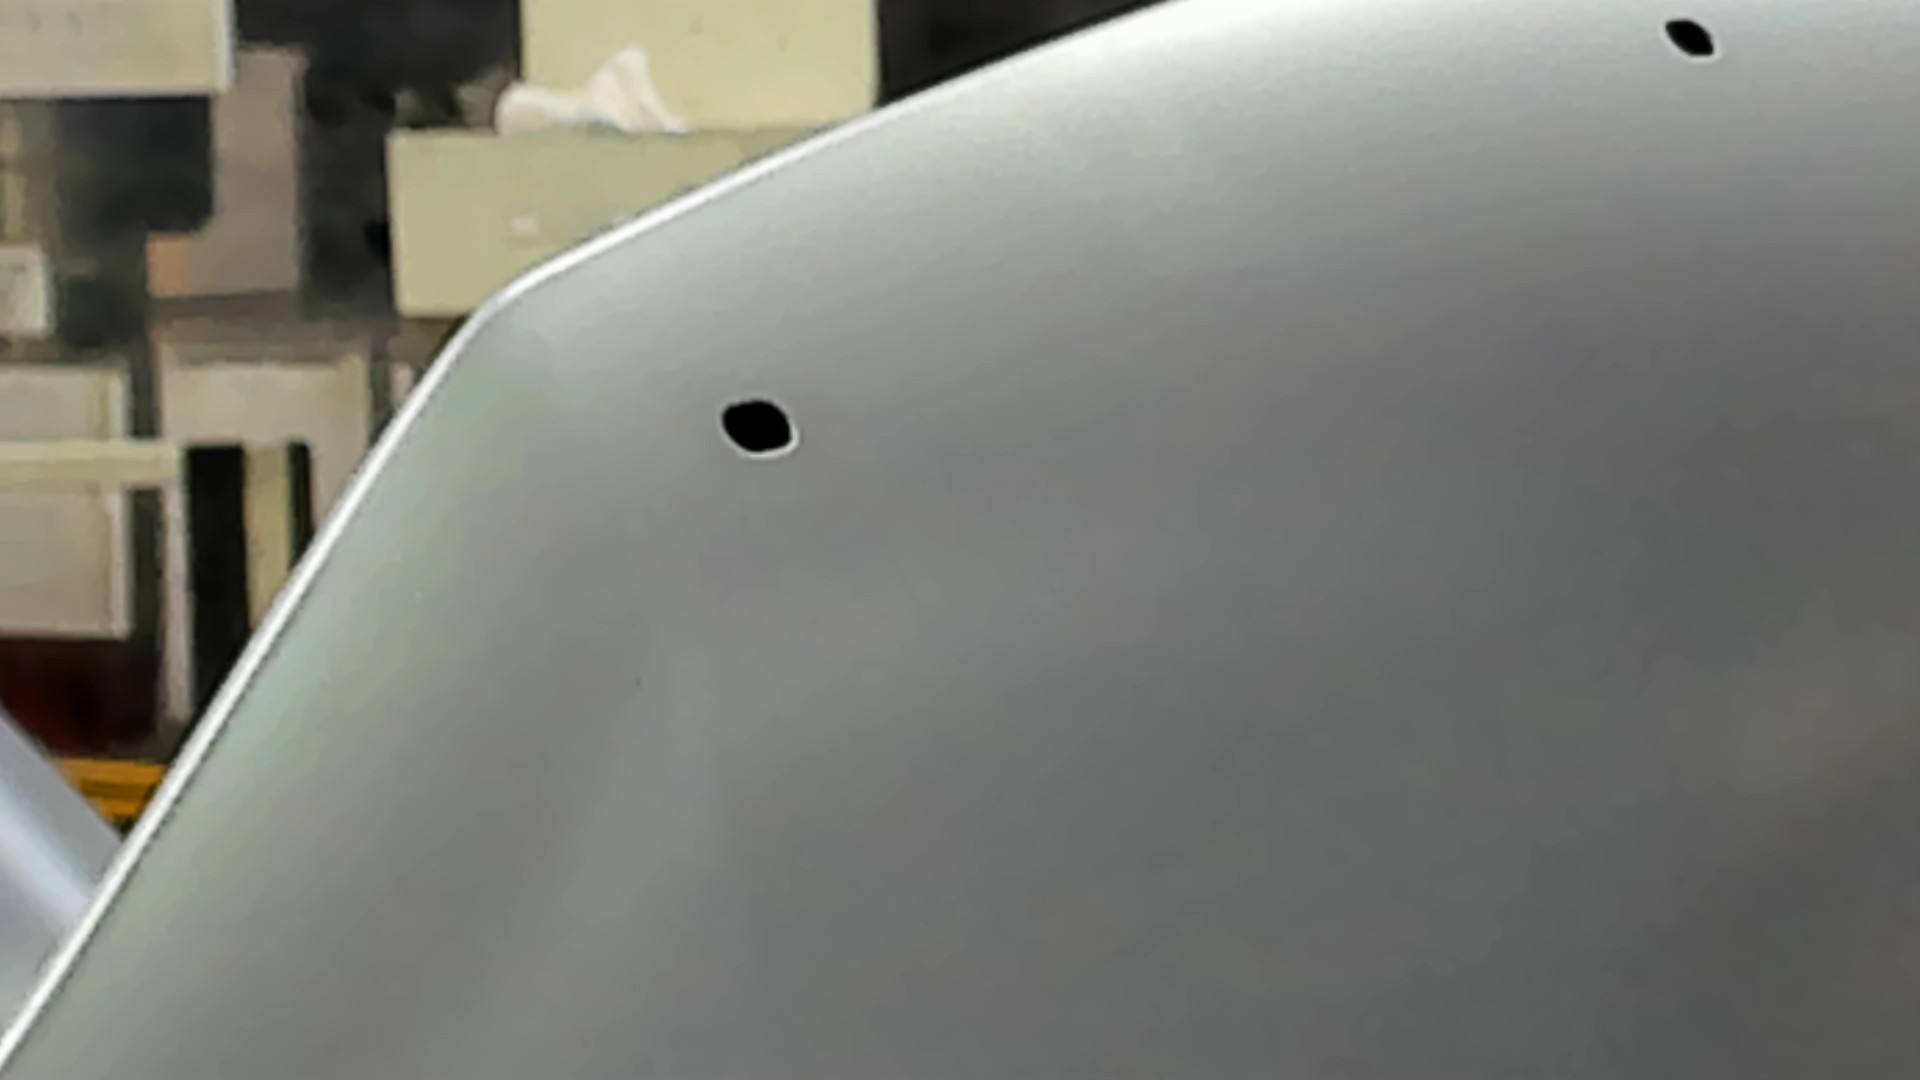amorfo: (715, 396, 800, 459), (1662, 15, 1724, 65)
